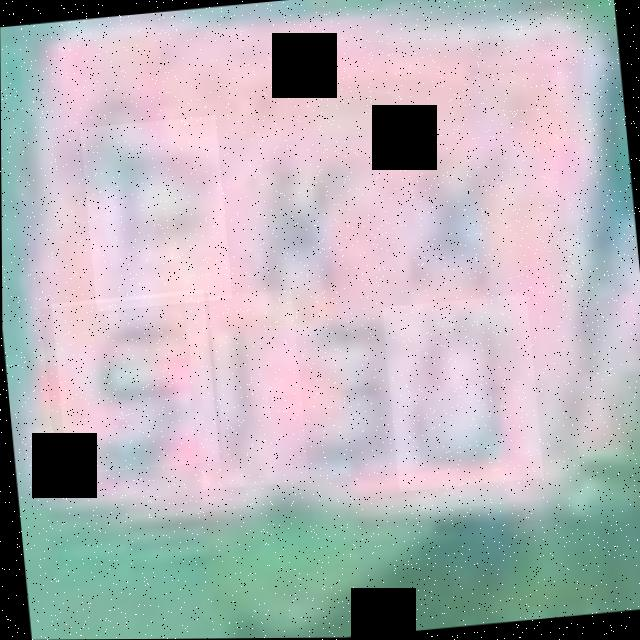0: (381, 294, 542, 492)
1: (184, 289, 308, 490)
3: (261, 290, 422, 488)
5: (40, 293, 223, 475)
9: (50, 289, 218, 475)
P: (79, 115, 231, 311)
